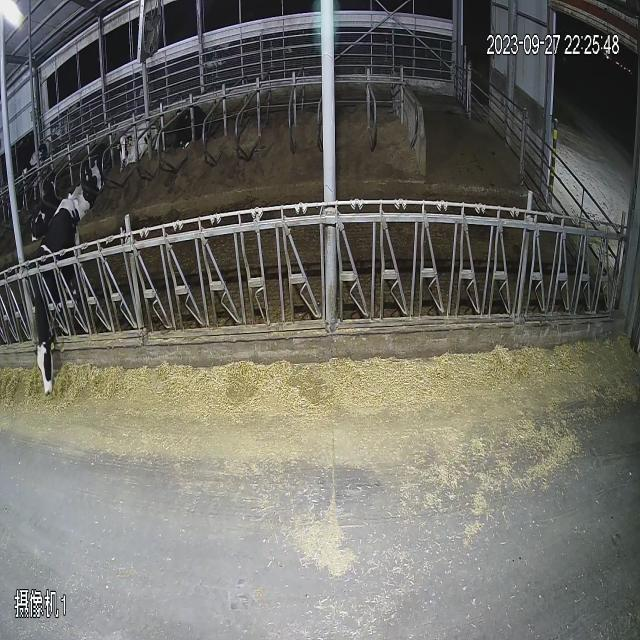feeding: (22, 192, 88, 428)
lying down: (115, 90, 162, 176), (71, 126, 110, 216), (170, 88, 210, 166), (24, 177, 70, 231)
